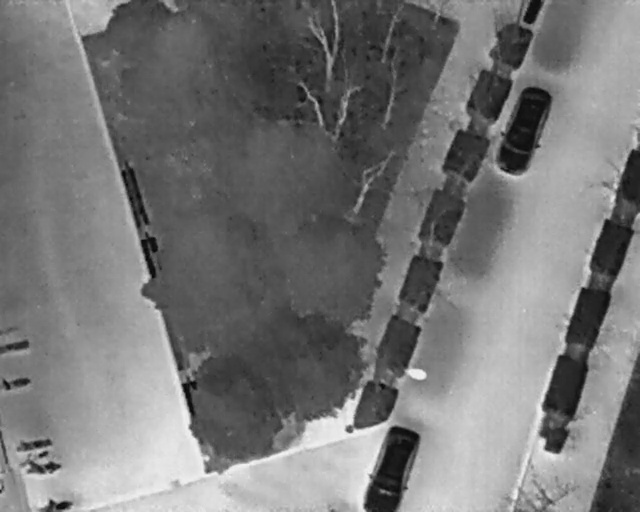Bicycle: (12, 444, 52, 471), (14, 434, 55, 453), (22, 458, 60, 475), (35, 497, 75, 510), (0, 338, 31, 354), (0, 375, 31, 391)
Car: (487, 78, 559, 182), (360, 424, 422, 510)
